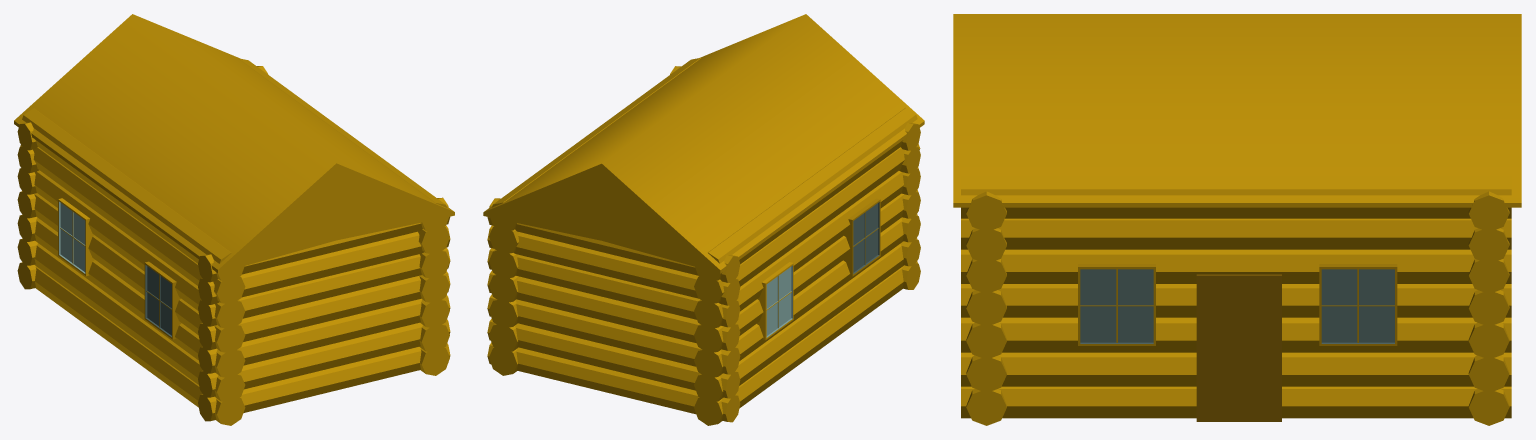
The model's file is New_Cabin.fbx.
The picture shows the model from 3 angles, left to right: view 1: azimuth 30°, elevation 25°; view 2: azimuth 150°, elevation 25°; view 3: azimuth 270°, elevation 25°; orthographic projection. The views are drawn at different scales.
Visible parts, largest first — view 1: NewCabin:polySurface1; view 2: NewCabin:polySurface1; view 3: NewCabin:polySurface1.
Boxes of the visible parts, <box> form: NewCabin:polySurface1: <box>14,14,454,425</box>; NewCabin:polySurface1: <box>483,14,924,425</box>; NewCabin:polySurface1: <box>953,14,1521,425</box>.
Size of the model in its own units: 10.08 by 9.68 by 14.94.
